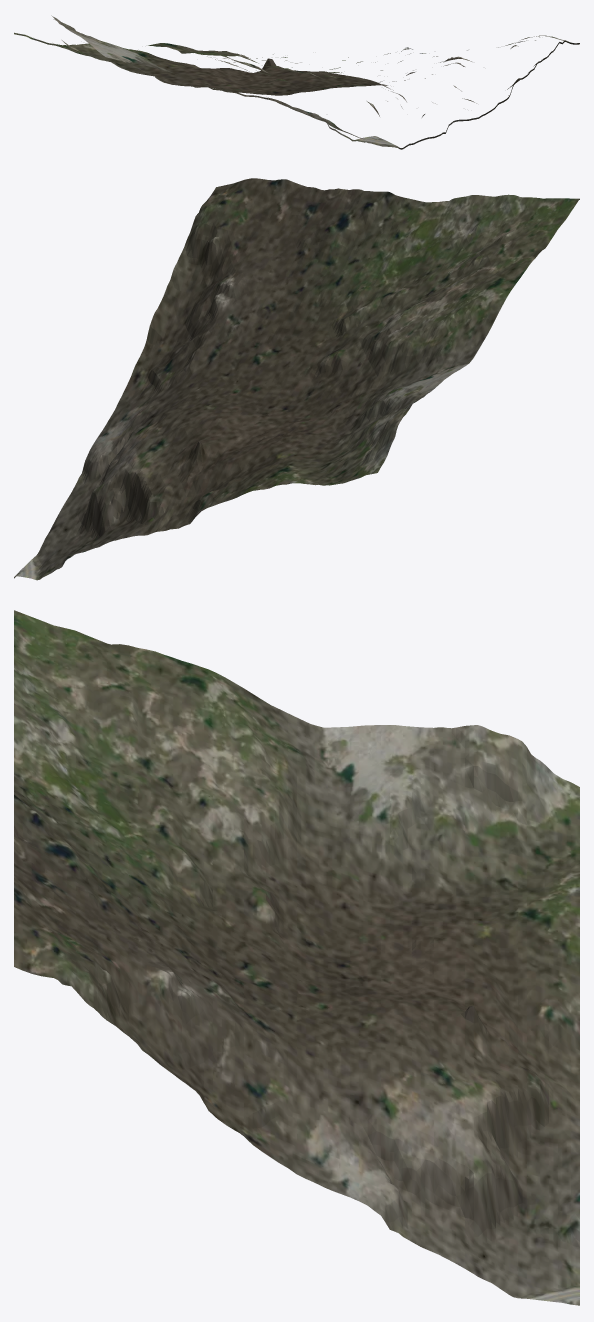
3 renders of one model, top to bottom at view 1: azimuth 30°, elevation 25°; view 2: azimuth 150°, elevation 25°; view 3: azimuth 270°, elevation 25°, orthographic. The views are drawn at different scales.
Bounding box in the file's own units: 250 × 211 × 241.
1 material, 1 textured.
